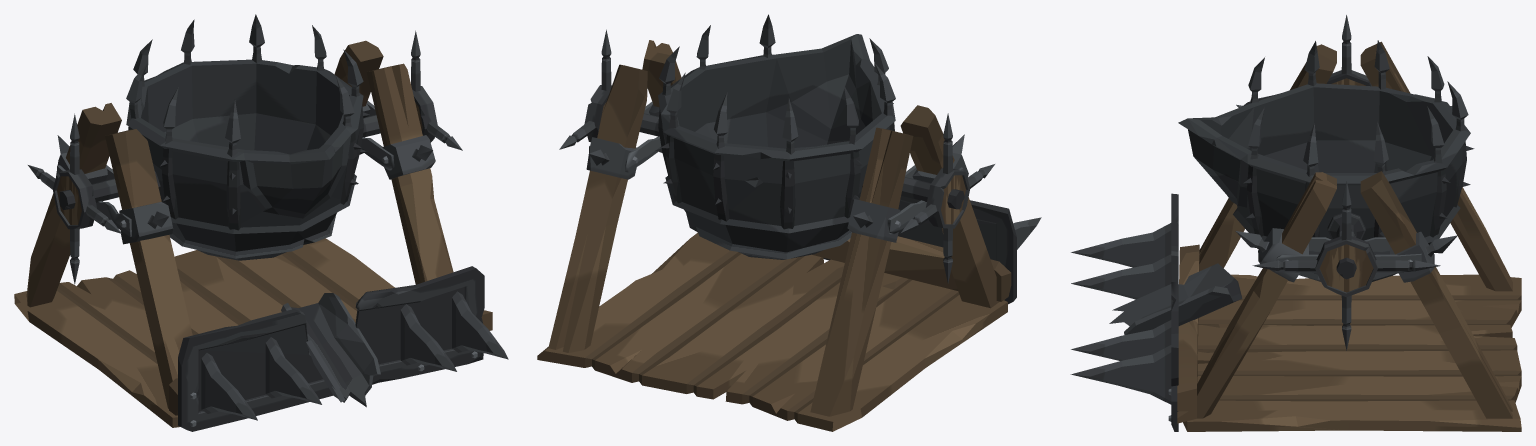
The model's file is SM_Prop_Boiling_Oil_01.fbx.
3 views of the same model, side by side, from view 1: azimuth 30°, elevation 25°; view 2: azimuth 150°, elevation 25°; view 3: azimuth 270°, elevation 25° (orthographic).
Parts seen in each view (by area): view 1: SM_Prop_Boiling_Oil_01; view 2: SM_Prop_Boiling_Oil_01; view 3: SM_Prop_Boiling_Oil_01.
Boxes of the visible parts, x1,y1,x2,y2 form: SM_Prop_Boiling_Oil_01: [14, 14, 508, 431]; SM_Prop_Boiling_Oil_01: [537, 14, 1041, 431]; SM_Prop_Boiling_Oil_01: [1070, 15, 1521, 431].
Size of the model in its own units: 300 by 220 by 323.
